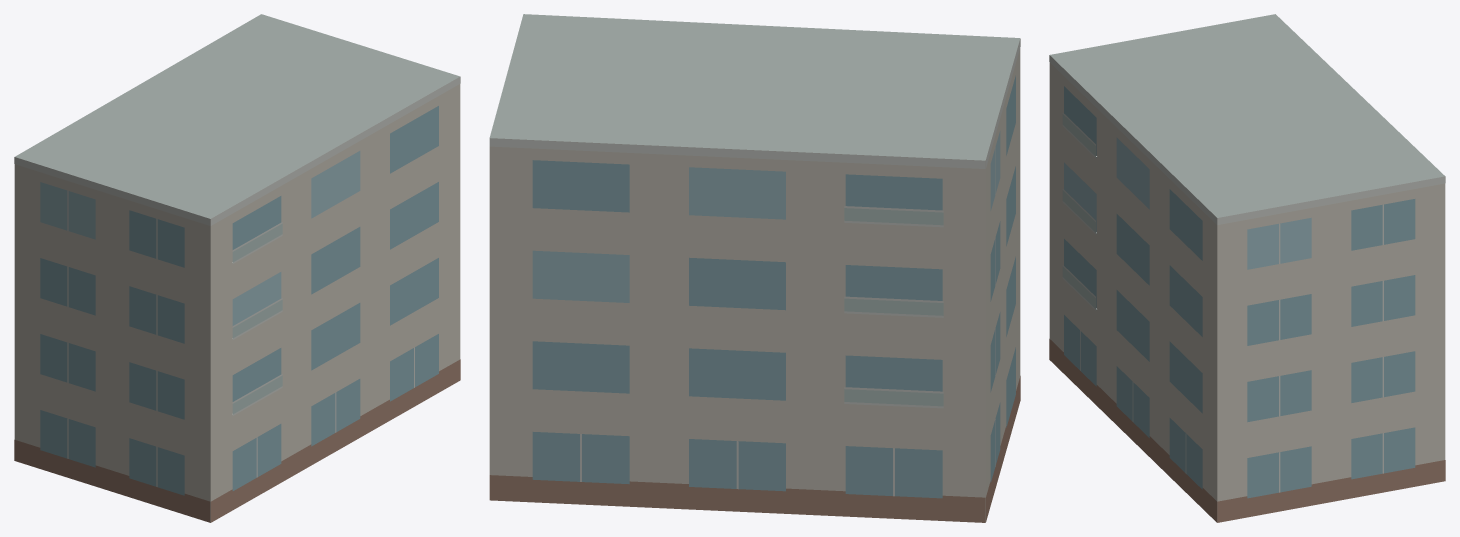
Rendered from survey-upis-32598909.glb.
3 renders of one model, left to right at view 1: azimuth 30°, elevation 25°; view 2: azimuth 150°, elevation 25°; view 3: azimuth 270°, elevation 25°, orthographic. The views are drawn at different scales.
Visible parts, largest first — view 1: survey-upis-32598909.tmp; view 2: survey-upis-32598909.tmp; view 3: survey-upis-32598909.tmp.
Part boxes in pixels (<box>): survey-upis-32598909.tmp: <box>14,14,460,522</box>; survey-upis-32598909.tmp: <box>489,14,1020,522</box>; survey-upis-32598909.tmp: <box>1049,14,1445,522</box>.
Size of the model in its own units: 14.94 by 10.4 by 12.25.
